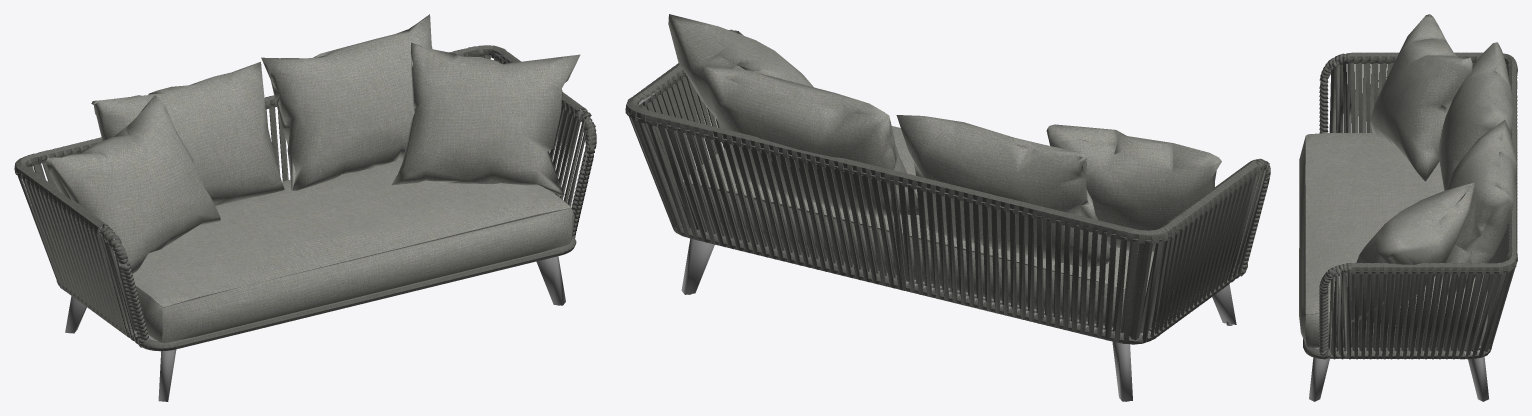
The model's file is outdoor_sofa.glb.
3 renders of one model, left to right at view 1: azimuth 30°, elevation 25°; view 2: azimuth 150°, elevation 25°; view 3: azimuth 270°, elevation 25°, orthographic. The views are drawn at different scales.
Visible parts, largest first — view 1: Geom3D (×7); view 2: Geom3D (×8); view 3: Geom3D (×8).
Part boxes in pixels (x1,y1,x2,y2): Geom3D (×7): (14,14,596,401); Geom3D (×8): (625,14,1270,401); Geom3D (×8): (1299,14,1517,401).
Size of the model in its own units: 2.16 by 0.8946 by 0.8782.
Materials: 4 (2 with a texture image).
